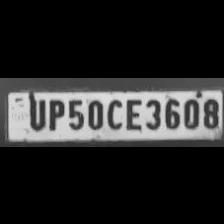0: (84, 96, 104, 128), (180, 96, 198, 128)
3: (142, 95, 162, 129)
5: (65, 95, 85, 129)
6: (162, 94, 180, 130)
8: (200, 96, 220, 128)
C: (104, 95, 122, 129)
E: (122, 95, 142, 129)
P: (46, 96, 64, 130)
U: (25, 96, 48, 130)
